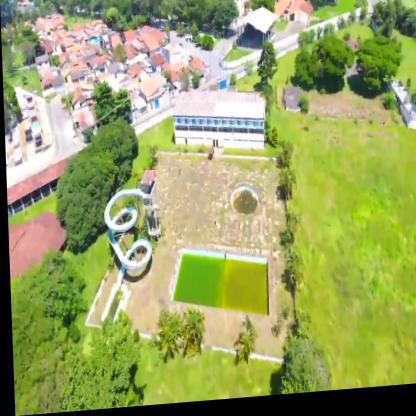agua: (180, 247, 259, 316), (228, 186, 259, 220)
